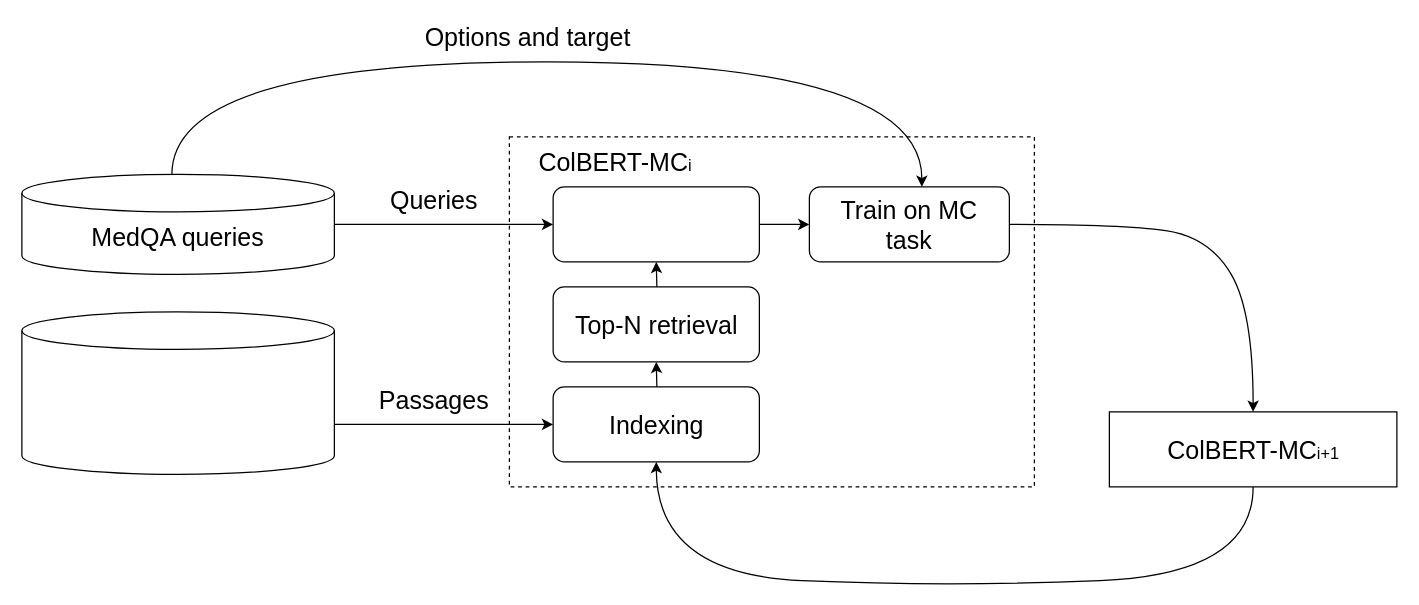
Some shapes in this 1419 by 605 pixel diagram are drawn without their labels. The shapes that lost their labels are listed below. From the top down, each one's box as (x1, y1, x2, y2) in pixels, then its label:
(552, 186, 759, 262): Create triples
(21, 311, 334, 474): Corpus
